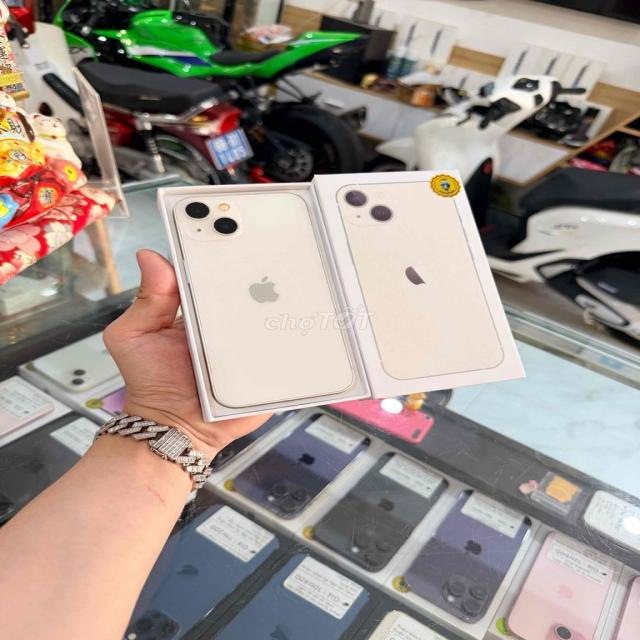gen_12_13: (175, 189, 359, 411)
